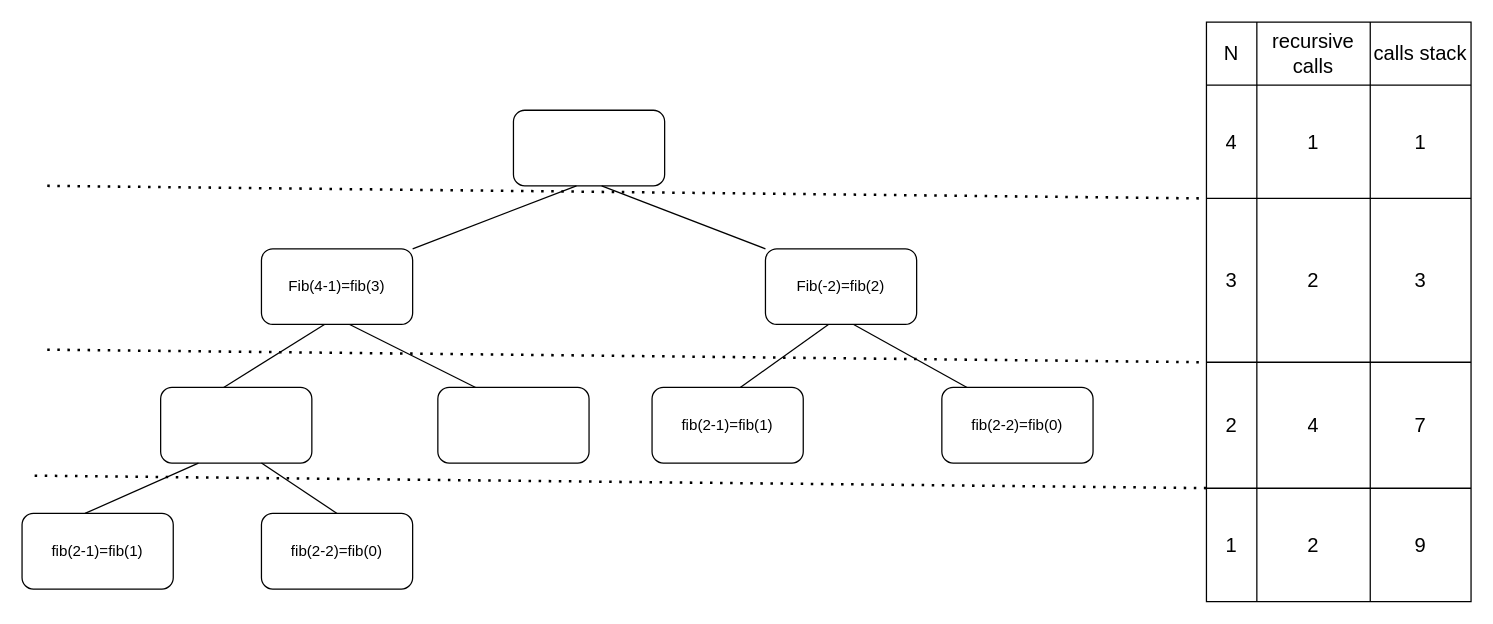
The diagram is 1493 pixels wide and 624 high, and some of its shapes have lost their labels. Each missing label, with the box of its shape:
fib(3-1) = fib(2): (159, 386, 312, 463)
fib(3-2)=fib(1): (437, 386, 589, 463)
Fib(4): (512, 109, 665, 186)
